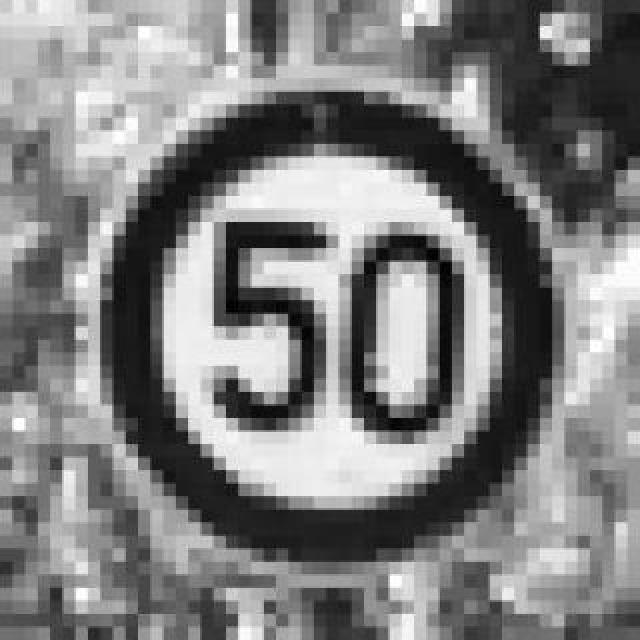50 kph: (76, 52, 566, 576)
